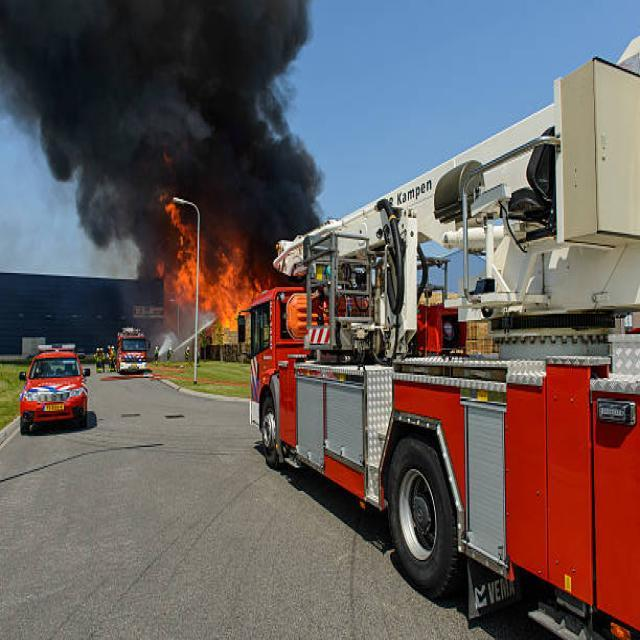Fire: (157, 182, 270, 330)
Smoke: (0, 0, 326, 280)
